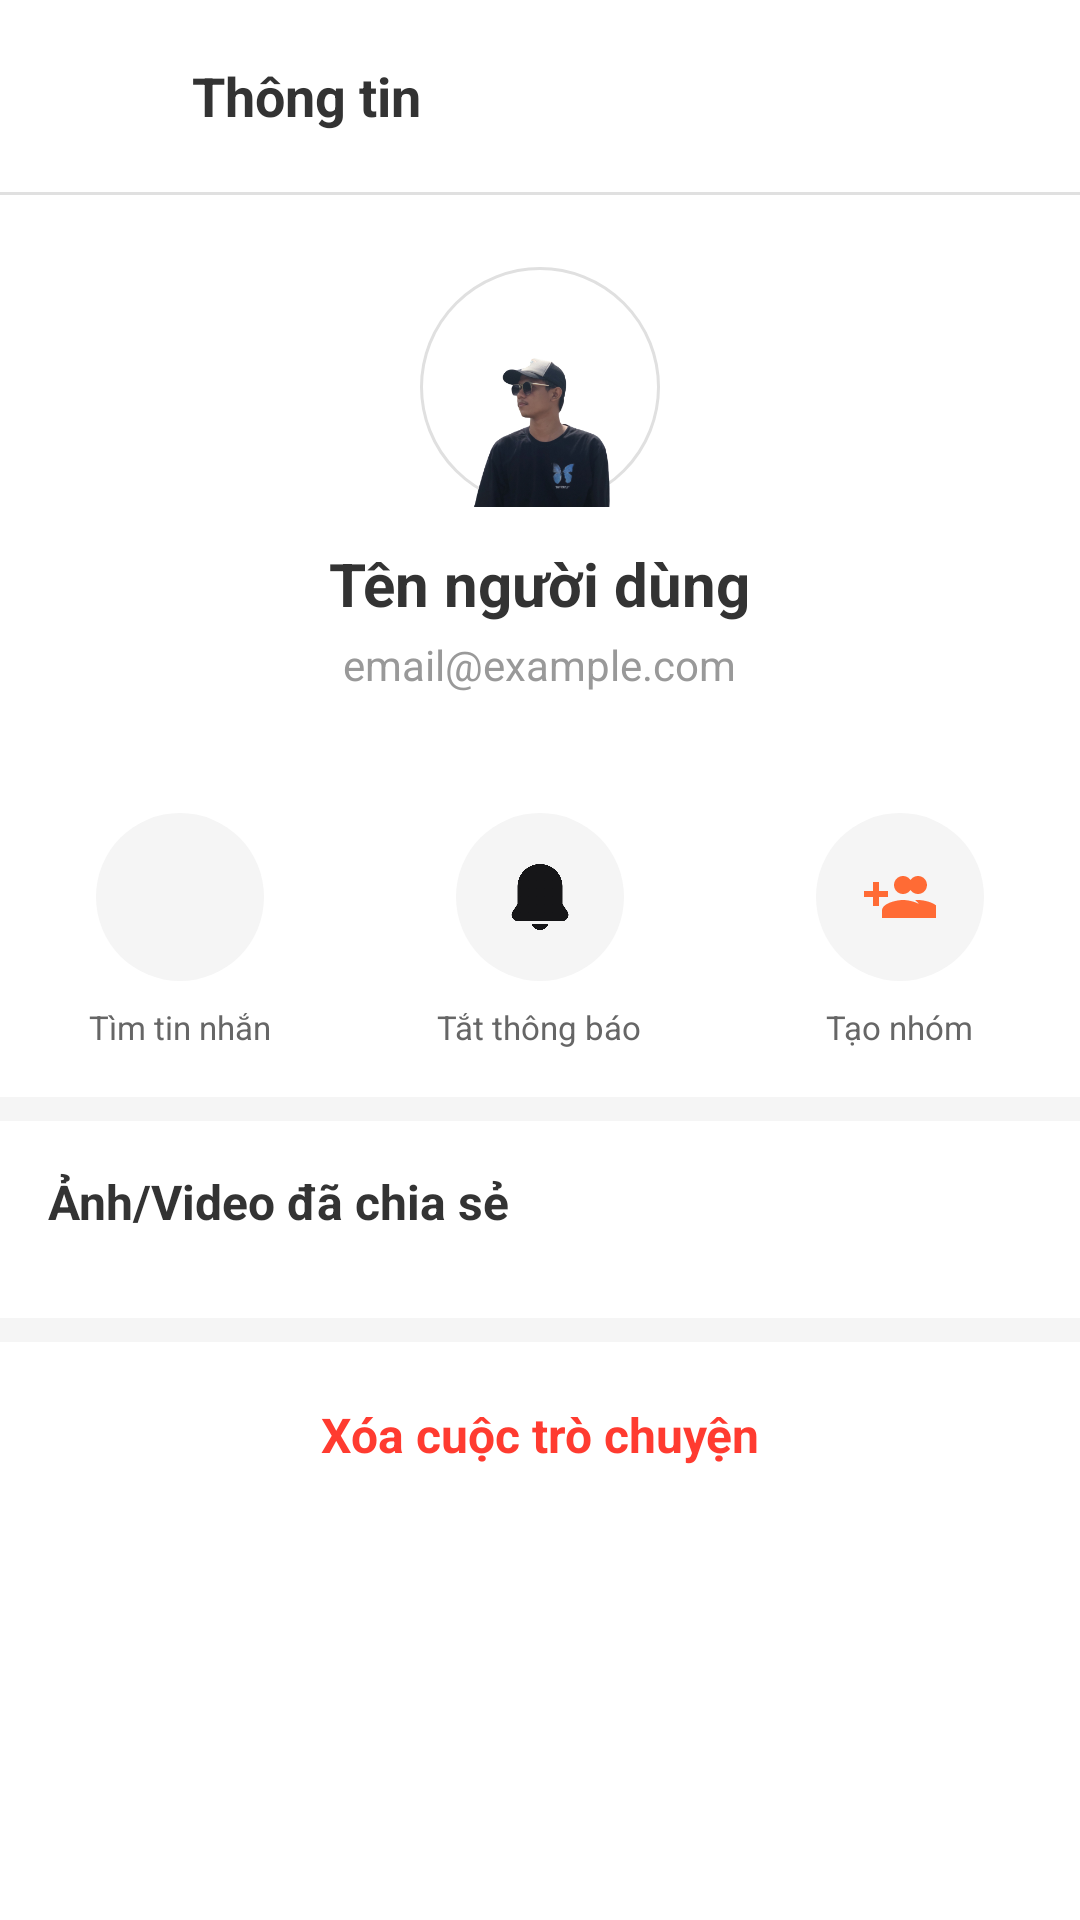

Where icons sit on this 1080px×1920px app screen, as Rect(x1, y1, x2, y2):
add group: Rect(864, 876, 936, 918)
avttest: Rect(420, 267, 660, 507)
ring: Rect(511, 864, 569, 930)
